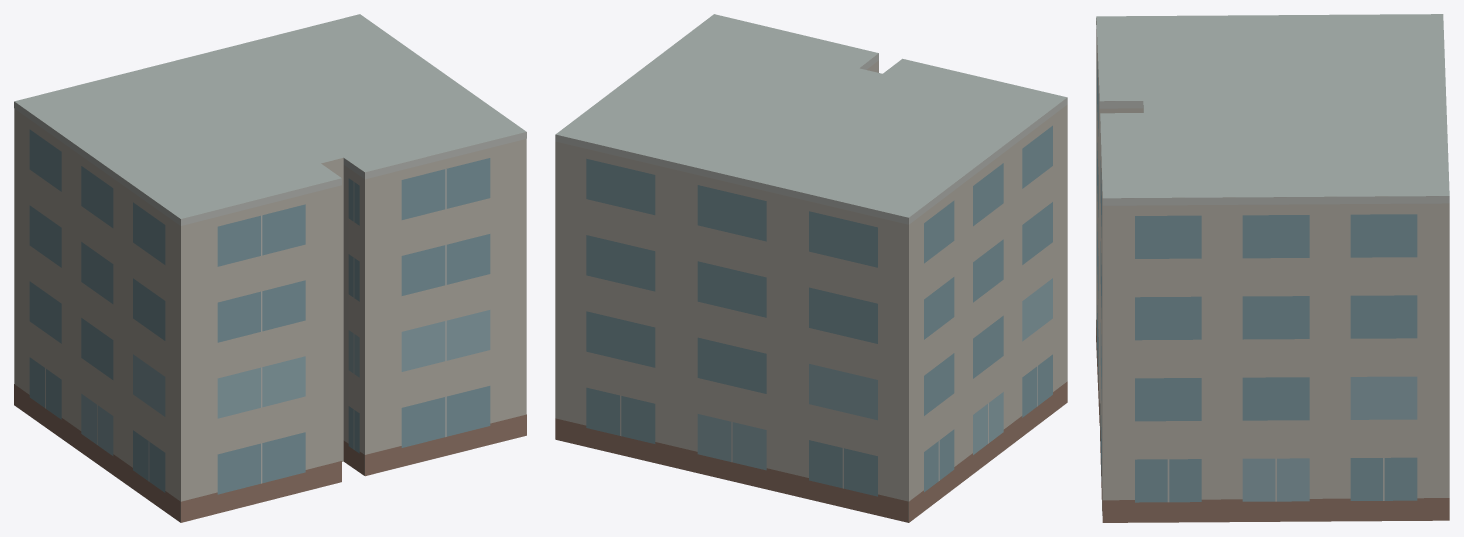
The model's file is survey-upis-32538434.glb.
The picture shows the model from 3 angles, left to right: view 1: azimuth 30°, elevation 25°; view 2: azimuth 150°, elevation 25°; view 3: azimuth 270°, elevation 25°; orthographic projection. The views are drawn at different scales.
Parts seen in each view (by area): view 1: survey-upis-32538434.tmp; view 2: survey-upis-32538434.tmp; view 3: survey-upis-32538434.tmp.
Part boxes in pixels (x1=…): survey-upis-32538434.tmp: x1=14, y1=14, x2=526, y2=522; survey-upis-32538434.tmp: x1=555, y1=14, x2=1067, y2=522; survey-upis-32538434.tmp: x1=1096, y1=14, x2=1449, y2=522.
Size of the model in its own units: 12.91 by 10.6 by 10.47.
